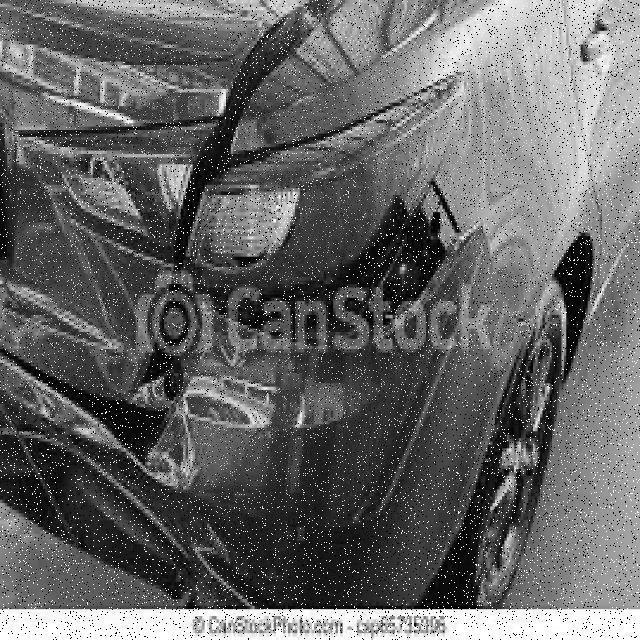rear-bumper-dent: (3, 313, 514, 621)
